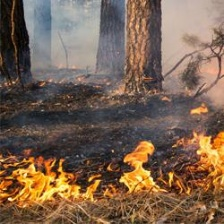fire: (6, 151, 224, 201)
smoke: (24, 11, 102, 73)
